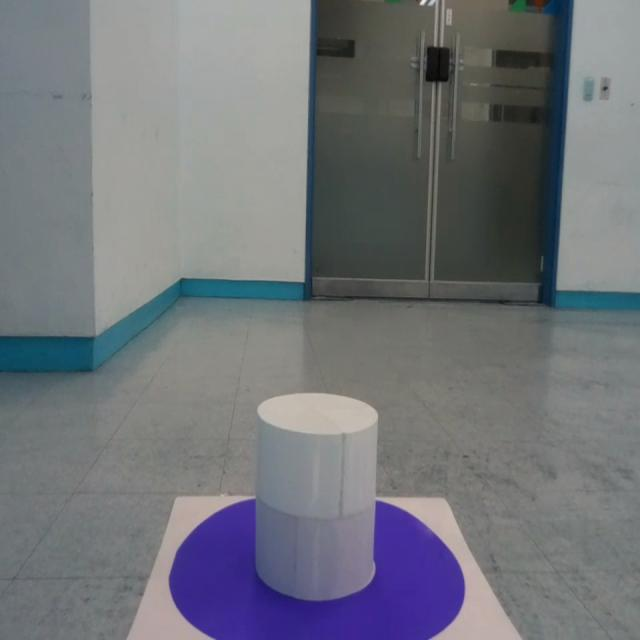cylinder: (253, 392, 379, 601)
